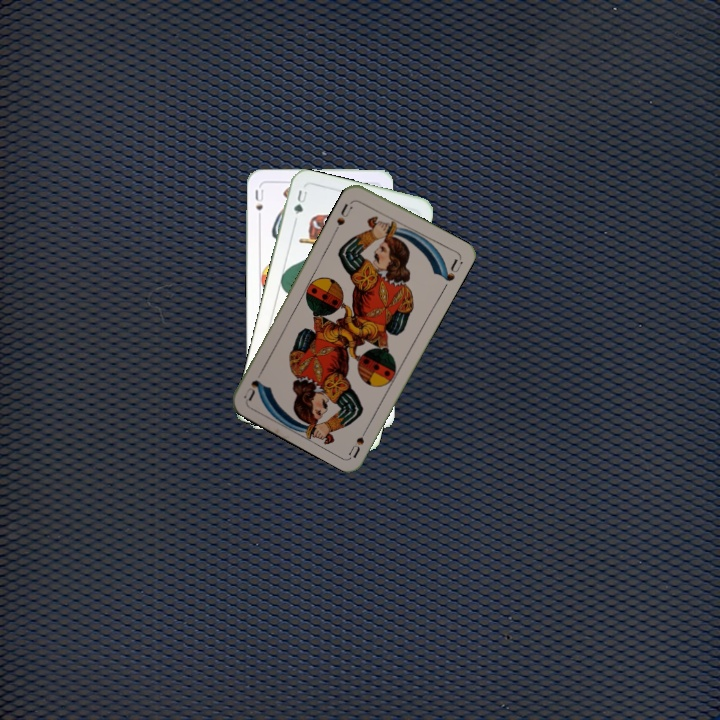GU: (290, 186, 310, 217)
SU: (345, 420, 372, 459), (333, 196, 356, 228), (251, 185, 266, 224)
